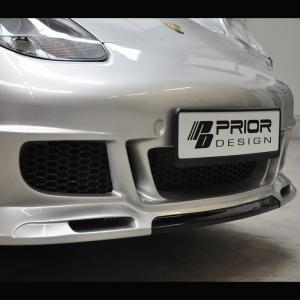Vehicle-registration-plate: (175, 108, 281, 170)
